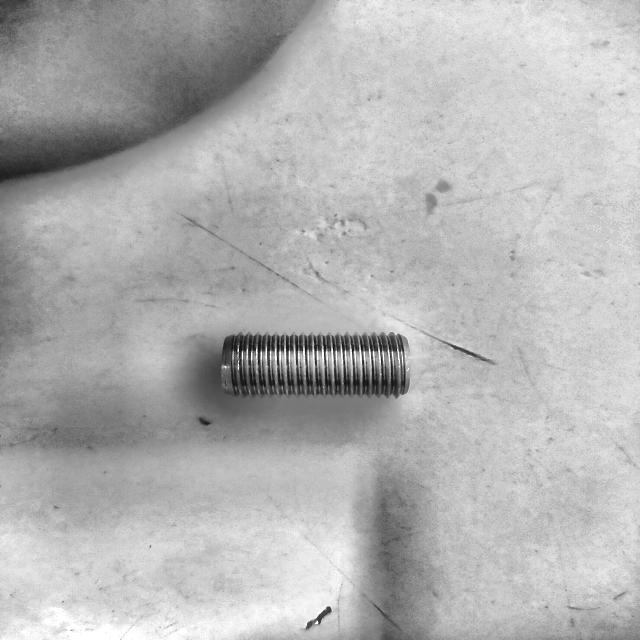Normal: (221, 329, 412, 402)
